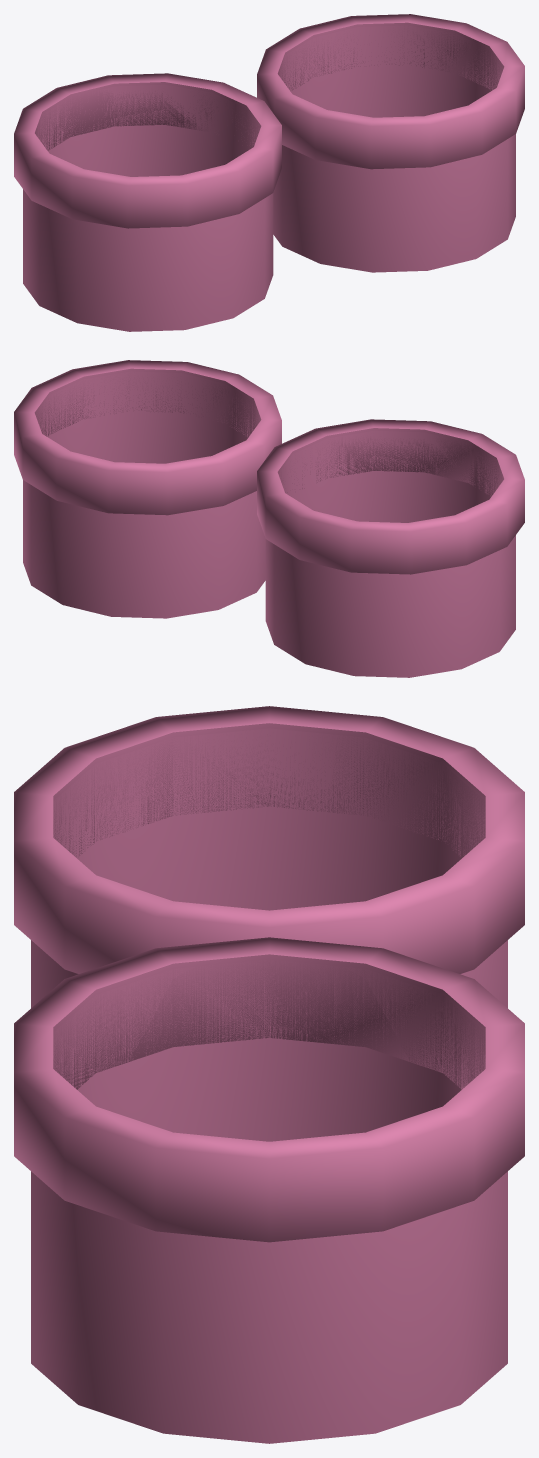
File: geometric_print_socks.glb
The picture shows the model from 3 angles, top to bottom: view 1: azimuth 30°, elevation 25°; view 2: azimuth 150°, elevation 25°; view 3: azimuth 270°, elevation 25°; orthographic projection. The views are drawn at different scales.
Parts seen in each view (by area): view 1: geometric_print_socks_LegL, geometric_print_socks_LegR; view 2: geometric_print_socks_LegL, geometric_print_socks_LegR; view 3: geometric_print_socks_LegR, geometric_print_socks_LegL.
Part boxes in pixels (<box>): geometric_print_socks_LegL: <box>14,73,281,331</box>; geometric_print_socks_LegR: <box>257,14,524,272</box>; geometric_print_socks_LegL: <box>257,419,524,677</box>; geometric_print_socks_LegR: <box>14,360,281,618</box>; geometric_print_socks_LegR: <box>14,937,524,1443</box>; geometric_print_socks_LegL: <box>14,706,524,1007</box>.
Size of the model in its own units: 0.372 by 0.112 by 0.1774.
